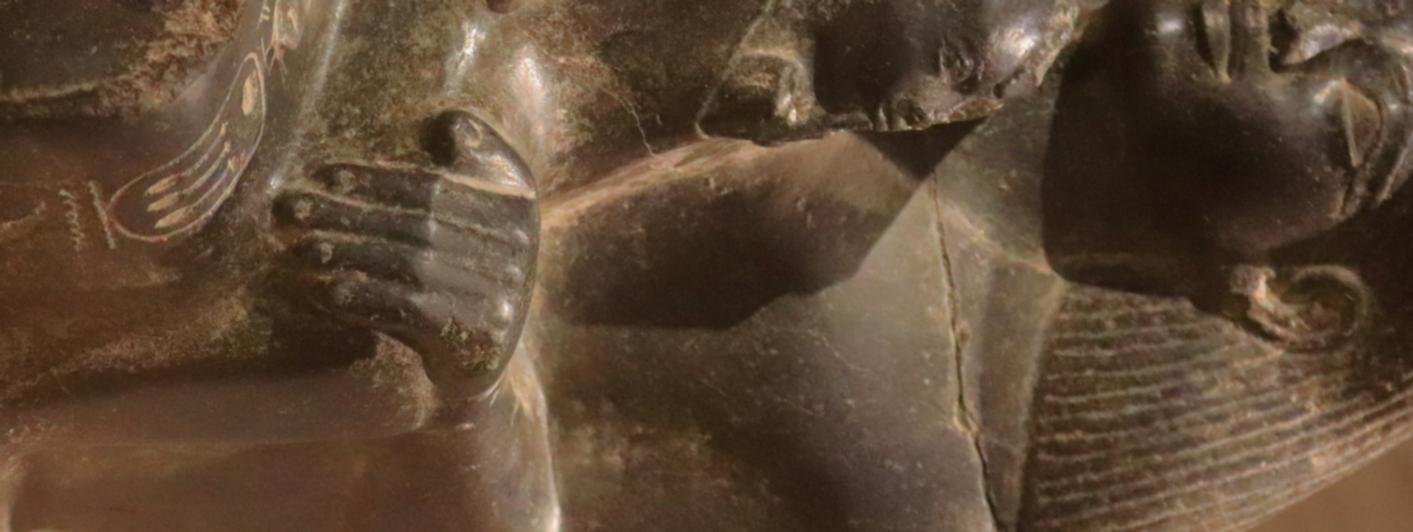Senenmut: (0, 0, 853, 532)
